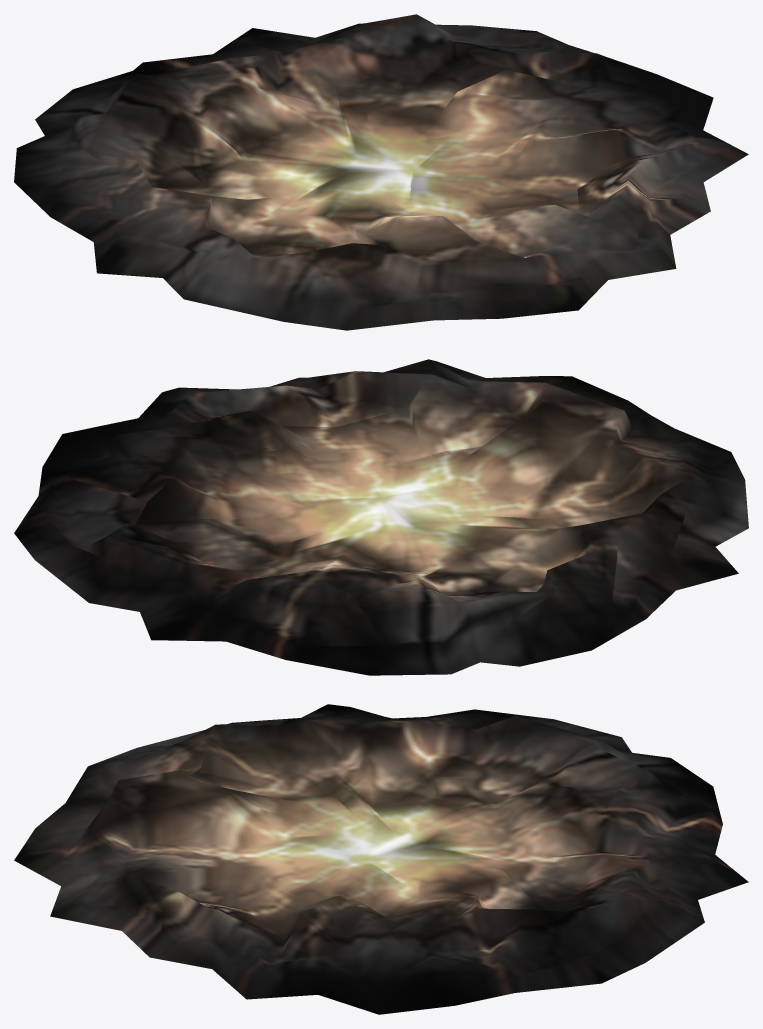
File: dilie2.FBX
The picture shows the model from 3 angles, top to bottom: view 1: azimuth 30°, elevation 25°; view 2: azimuth 150°, elevation 25°; view 3: azimuth 270°, elevation 25°; orthographic projection. The views are drawn at different scales.
Parts seen in each view (by area): view 1: Sphere002; view 2: Sphere002; view 3: Sphere002.
Part boxes in pixels (x1,y1,x2,y2): Sphere002: (14, 14, 748, 330); Sphere002: (14, 359, 748, 675); Sphere002: (14, 704, 748, 1014).
Size of the model in its own units: 962 by 46.56 by 962.
